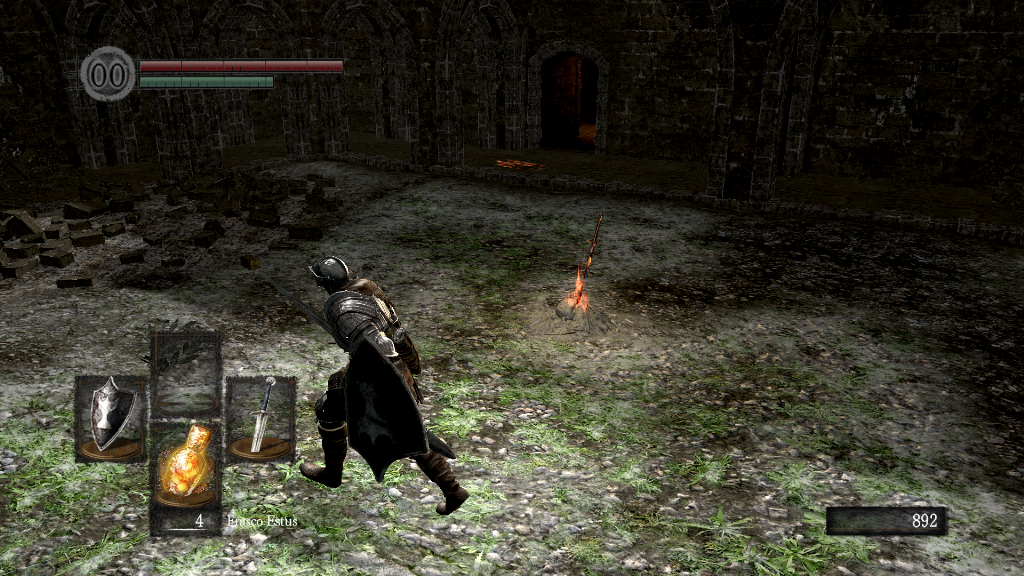bonfire: (536, 210, 621, 337)
health: (138, 58, 343, 71)
humanity: (80, 45, 136, 102)
player: (245, 252, 472, 513)
souls: (825, 506, 945, 536)
stamina: (138, 74, 274, 88)
